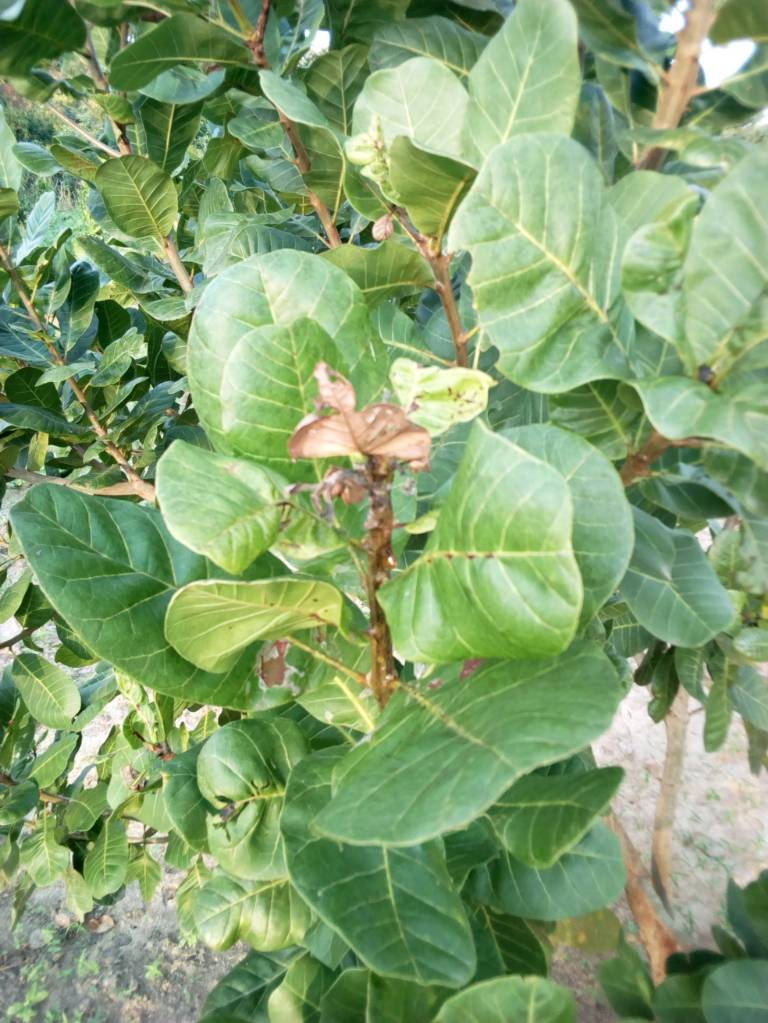Dessèchement des bourgeons: (328, 456, 431, 559)
